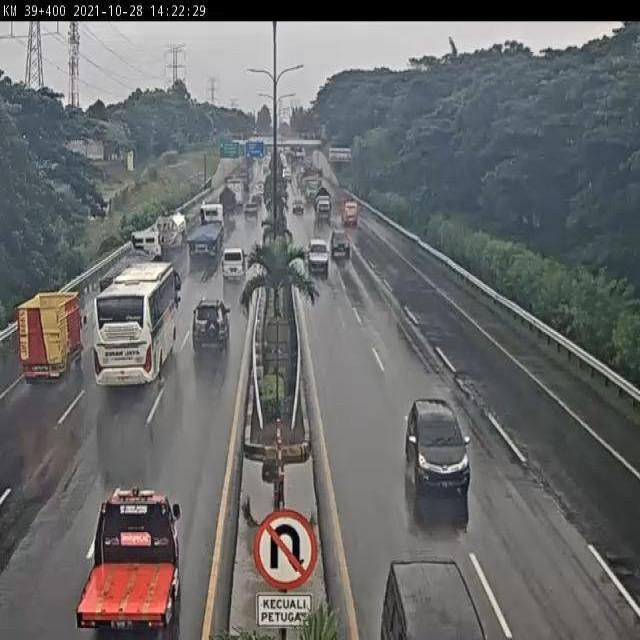car: (404, 400, 473, 499), (193, 300, 229, 349), (221, 247, 248, 277)
truck: (75, 492, 180, 632), (94, 264, 185, 381), (17, 292, 86, 379), (98, 228, 163, 295), (185, 200, 227, 261), (152, 208, 188, 253)
